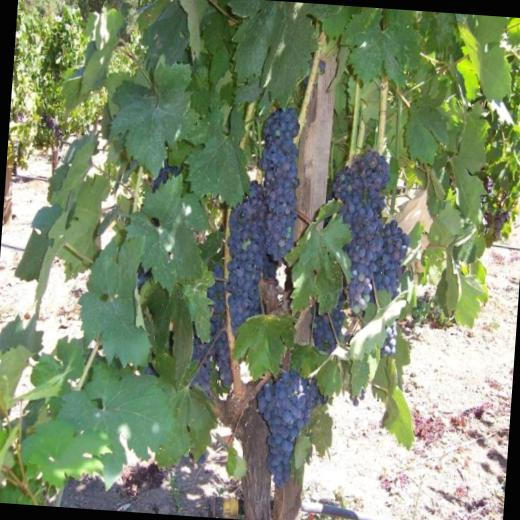Orange: (188, 102, 303, 400), (306, 146, 412, 354), (251, 366, 329, 490), (152, 156, 183, 193), (380, 320, 397, 354), (136, 262, 152, 293), (143, 367, 151, 373), (351, 400, 358, 406), (358, 394, 365, 400), (360, 386, 365, 394), (350, 394, 354, 399)
